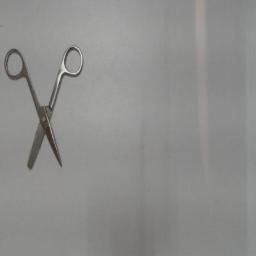Dressing Scissors: (1, 38, 89, 176)
